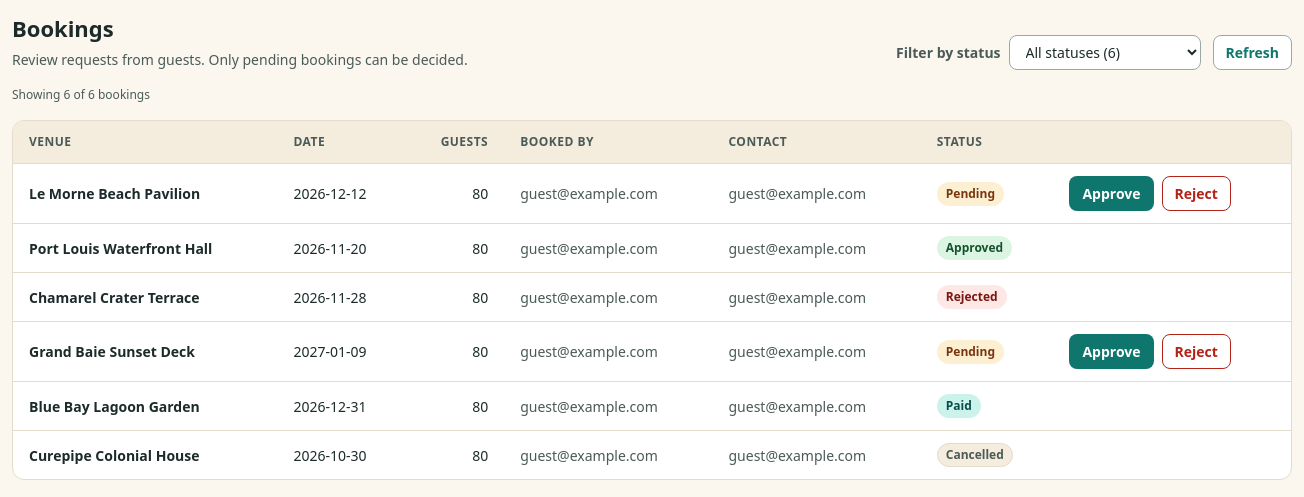
Test: BookingsPanel: approve / reject › rejects via the reject endpoint and drops the row from the Pending view
Select "Pending (2)" in the dropdown labelled "Filter by status": (1104, 52) [1008,35,1200,70]
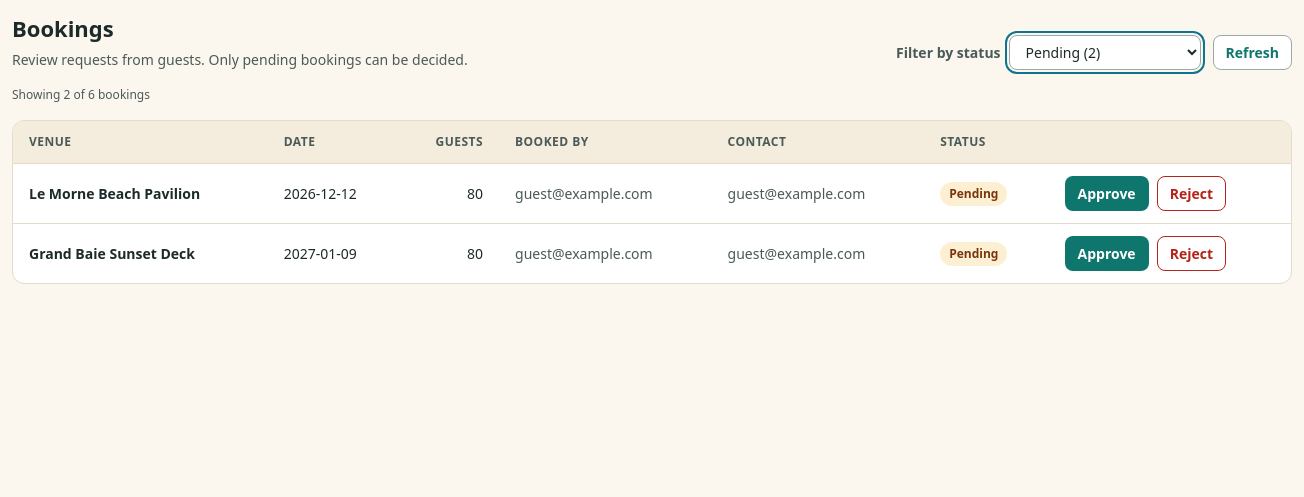
Click the button "Reject" in the row of "Grand Baie Sunset Deck": (1191, 254) [1157,236,1226,271]
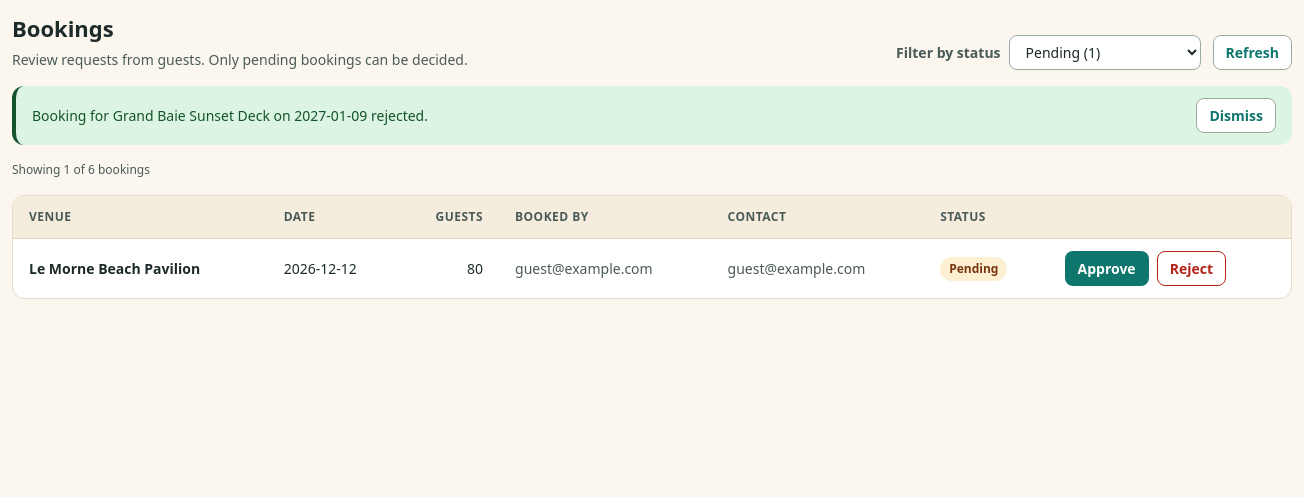
Check: the text "Grand Baie Sunset Deck on 2027-01-09 rejected." is shown, box [32,106,428,125]
Select "Rejected (2)" in the dropdown labelled "Filter by status": (1104, 52) [1008,35,1200,70]
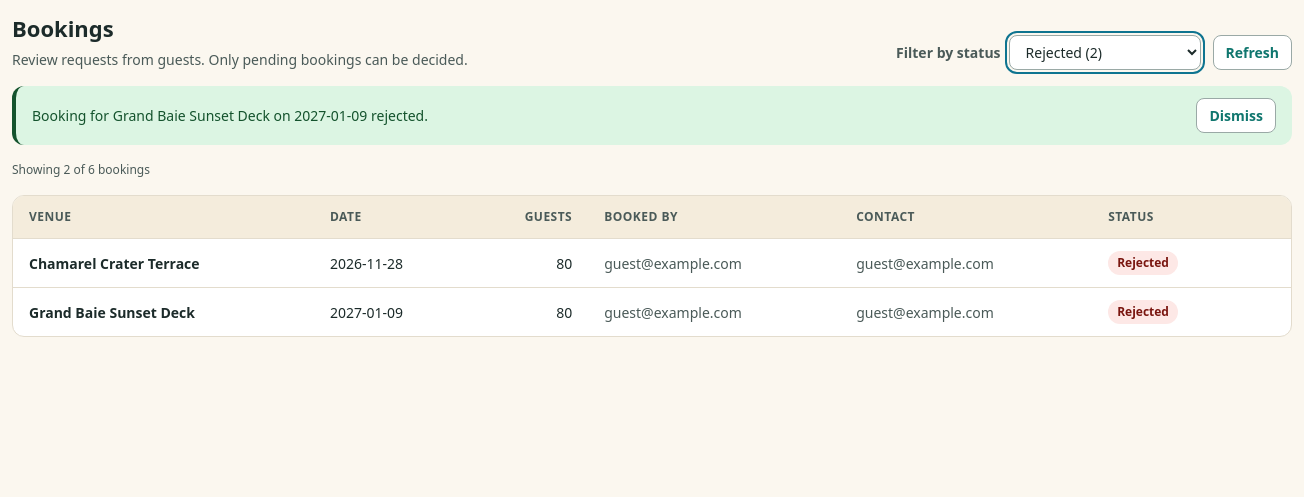
Check: the 2nd text "Rejected" is shown, box [1108,300,1178,324]
